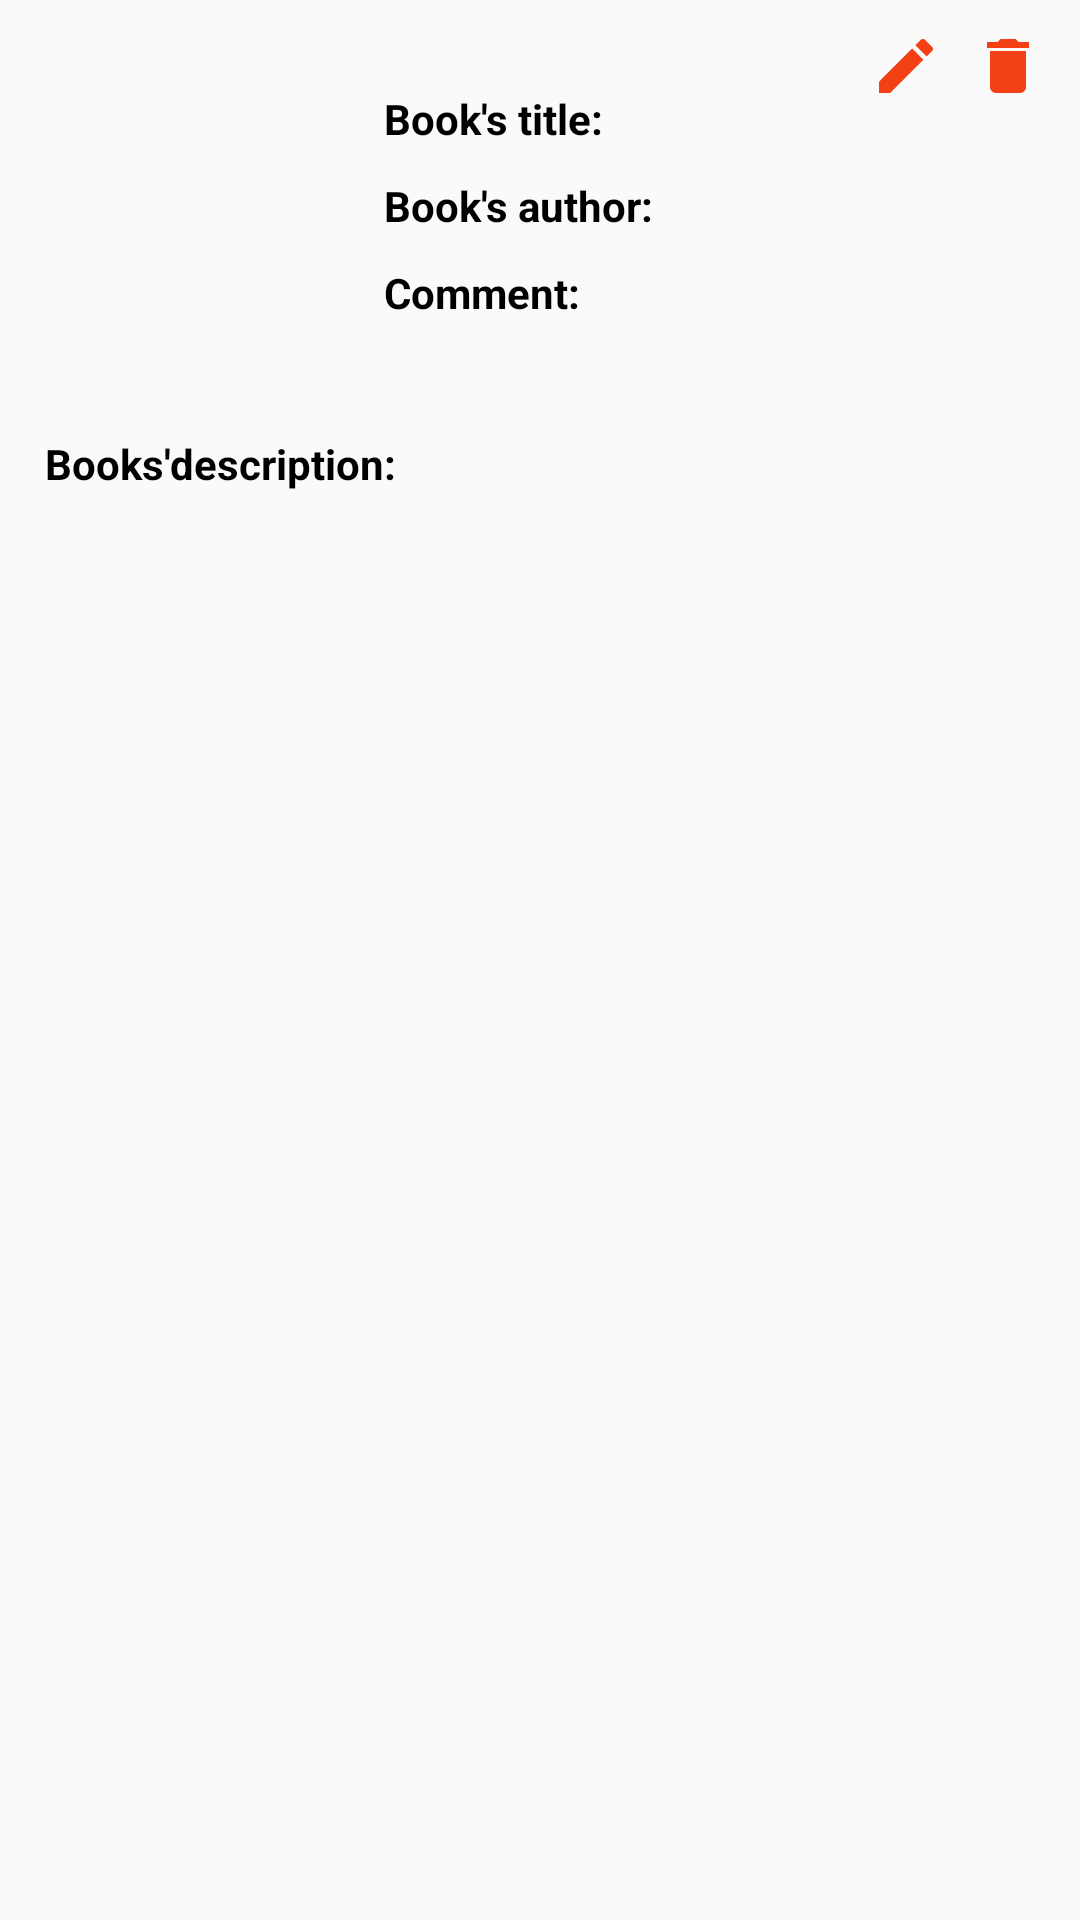

Screen size 1080 × 1920. Icon name, then its center in pixels as (x,y):
delete: (1008,66)
edit: (906,66)
